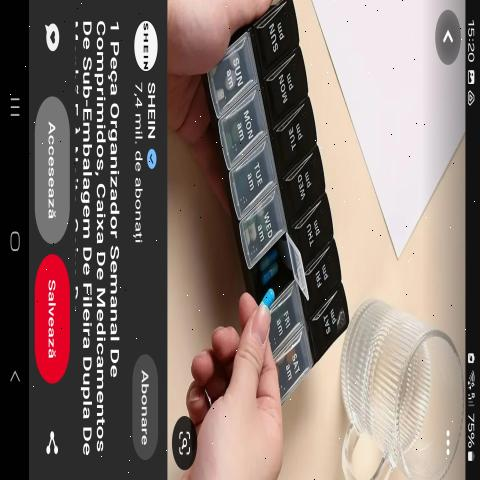PillBox: (200, 11, 356, 410)
